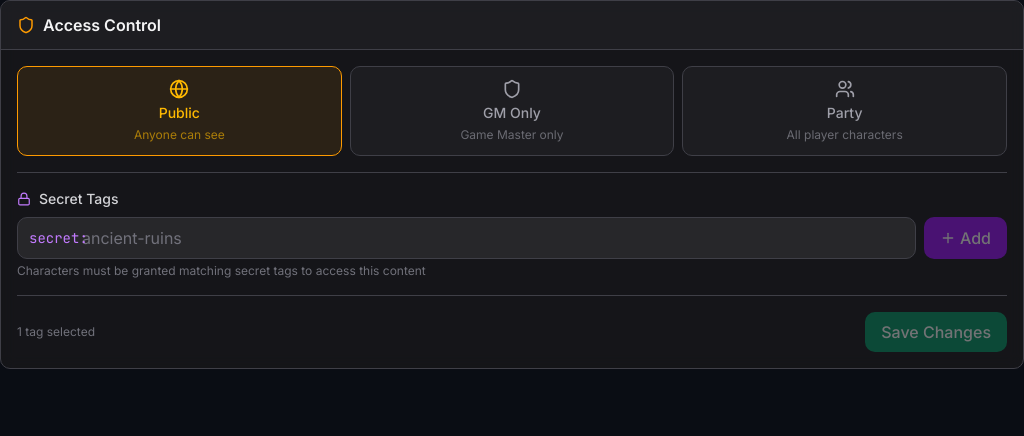
Test: ScopeEditor › adds secret tag on button click
Type "lost-city" into the field with placeholder "ancient-ruins".
click(466, 238); type("lost-city")  # box x1=17 y1=217 x2=916 y2=259
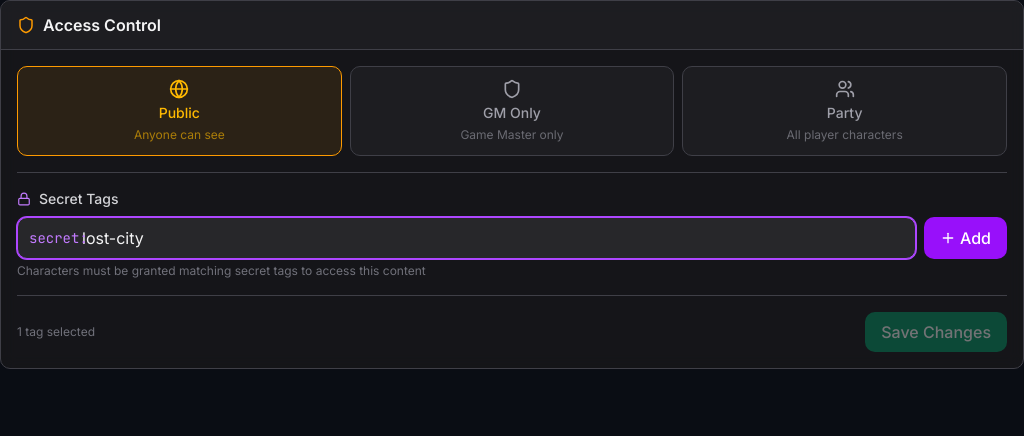
Click the button "Add".
click(966, 238)  # box x1=924 y1=217 x2=1007 y2=259
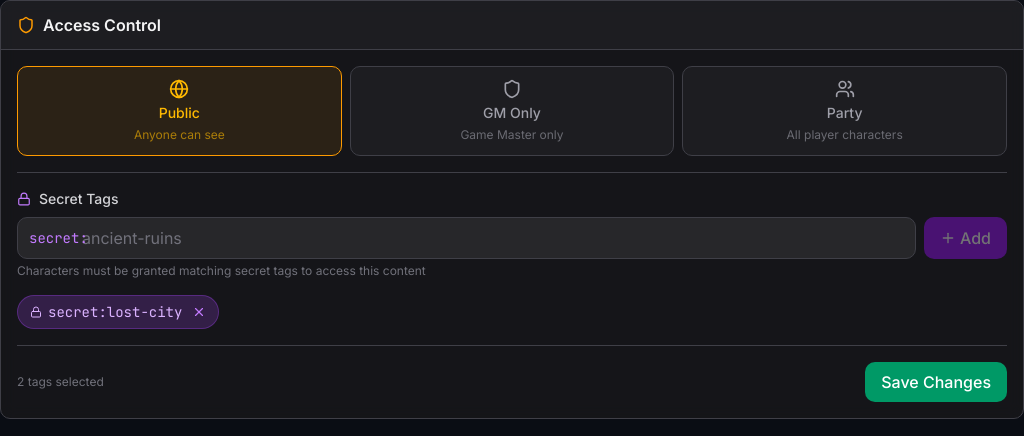
Now the text "secret:lost-city" is shown, box x1=17 y1=295 x2=219 y2=329
